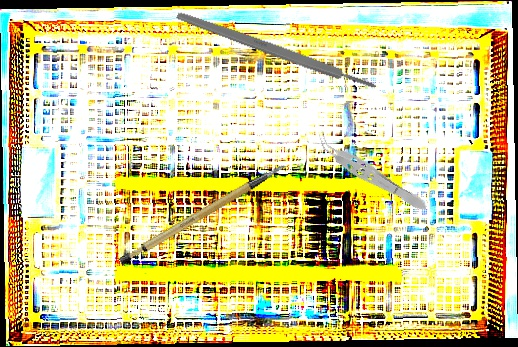Scalpel Handle: (108, 162, 299, 269), (175, 9, 378, 93)
Tissue Forceps: (310, 130, 432, 217)
